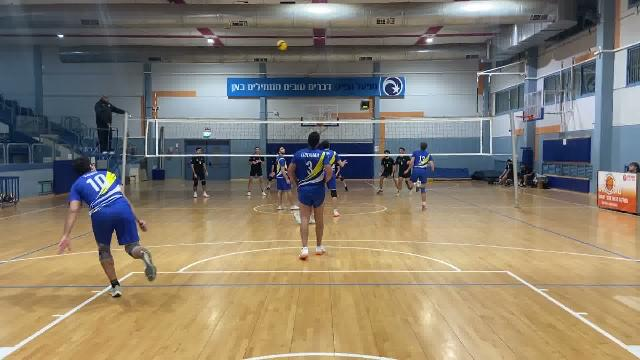ball: (274, 37, 290, 53)
